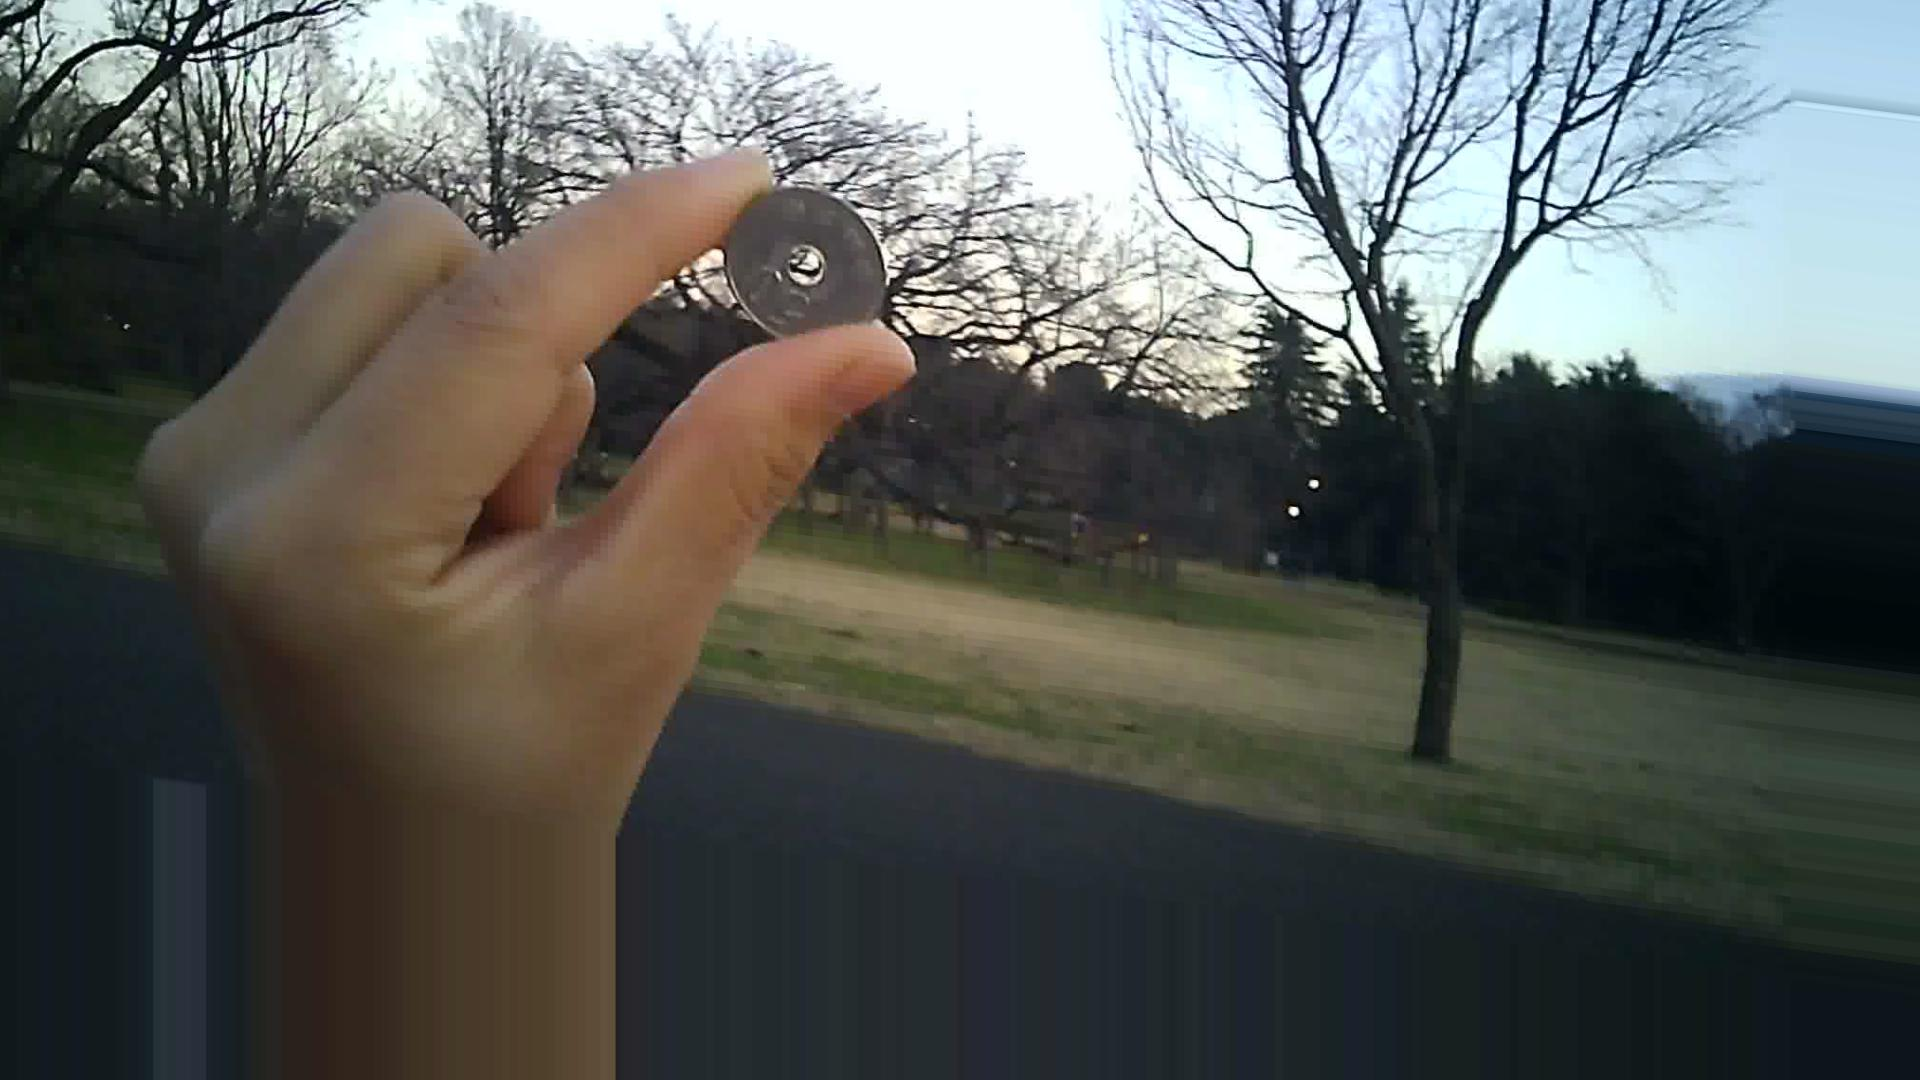10 Yen: (713, 179, 909, 351)
